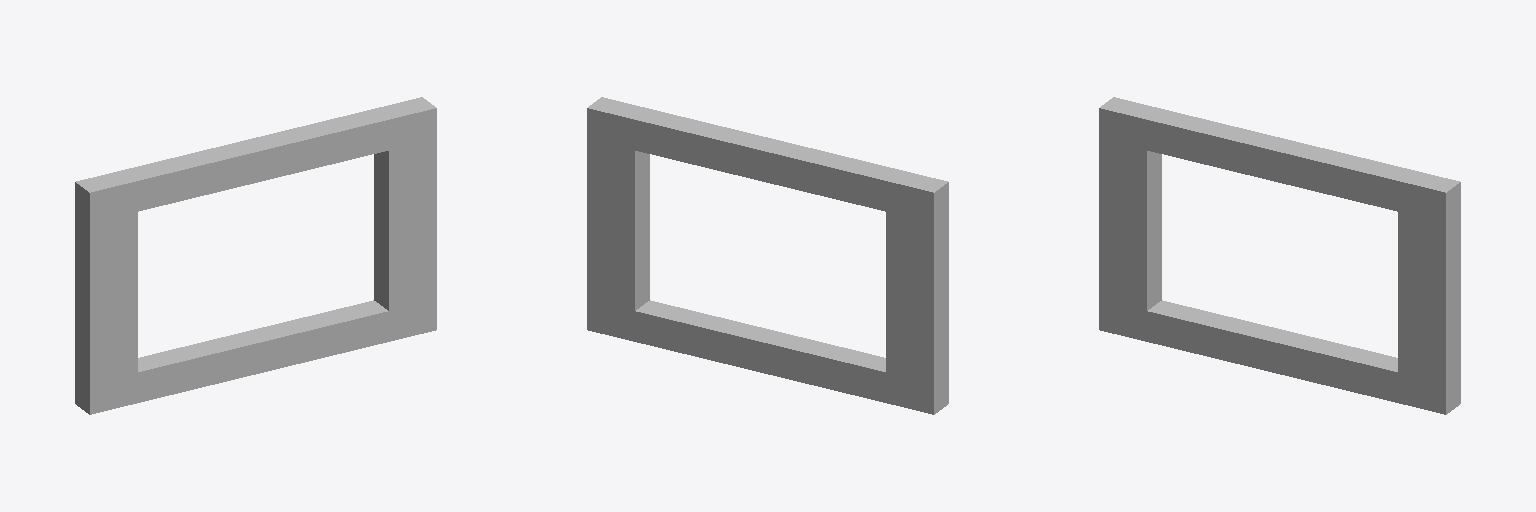
File: Exit1.OBJ
3 renders of one model, left to right at view 1: azimuth 30°, elevation 25°; view 2: azimuth 150°, elevation 25°; view 3: azimuth 330°, elevation 25°, orthographic.
Parts seen in each view (by area): view 1: Exit1_Cube.009; view 2: Exit1_Cube.009; view 3: Exit1_Cube.009.
Part boxes in pixels (bbox=[...]): Exit1_Cube.009: bbox=[75, 97, 436, 414]; Exit1_Cube.009: bbox=[587, 97, 948, 414]; Exit1_Cube.009: bbox=[1099, 97, 1460, 414].
Bounding box in the file's own units: 0.0065 × 0.004 × 0.0005.